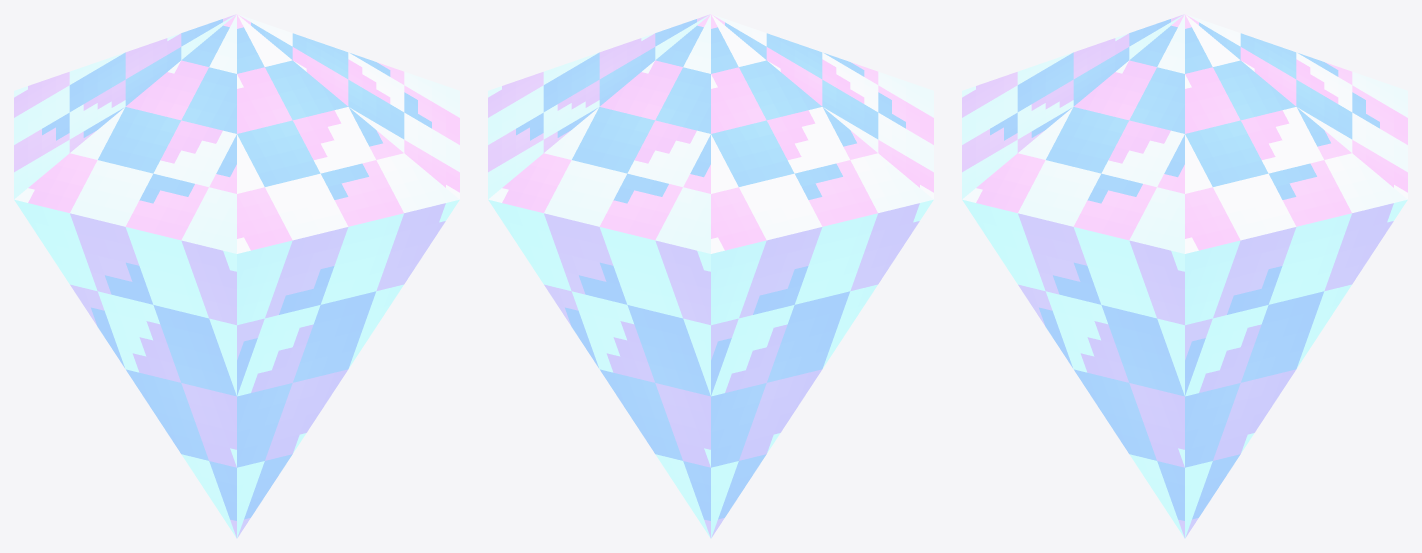
File: sample.glb
The picture shows the model from 3 angles, left to right: view 1: azimuth 30°, elevation 25°; view 2: azimuth 150°, elevation 25°; view 3: azimuth 270°, elevation 25°; orthographic projection.
Visible parts, largest first — view 1: Diamond; view 2: Diamond; view 3: Diamond.
Boxes of the visible parts, x1,y1,x2,y2 form: Diamond: (14,14,459,538); Diamond: (488,14,933,538); Diamond: (962,14,1407,538).
Size of the model in its own units: 0.64 by 0.72 by 0.5543.
1 material, 1 textured.
